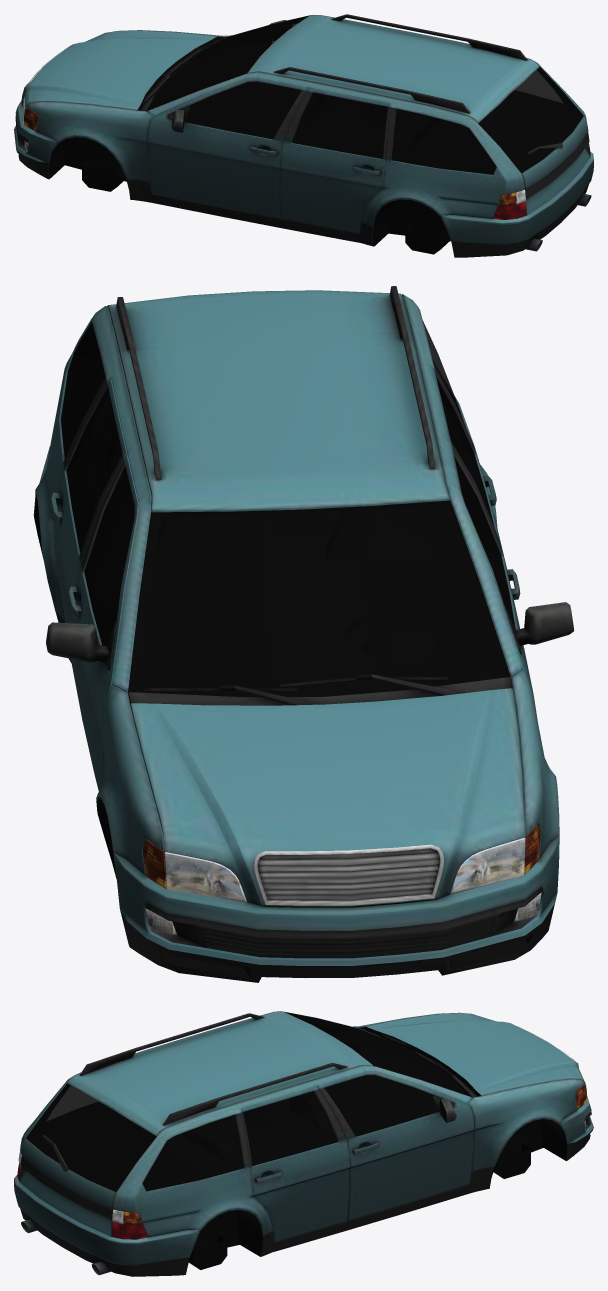
File: auto-wagon.glb
3 views of the same model, one above another, from view 1: azimuth 30°, elevation 25°; view 2: azimuth 150°, elevation 25°; view 3: azimuth 270°, elevation 25° (orthographic). The views are drawn at different scales.
Parts seen in each view (by area): view 1: Wagon Body; view 2: Wagon Body; view 3: Wagon Body.
Part boxes in pixels (bbox=[...]): Wagon Body: bbox=[14, 14, 593, 257]; Wagon Body: bbox=[33, 286, 574, 982]; Wagon Body: bbox=[14, 1011, 593, 1276].
Bounding box in the file's own units: 3.43 × 1.24 × 4.09.
Materials: 3 (2 with a texture image).
